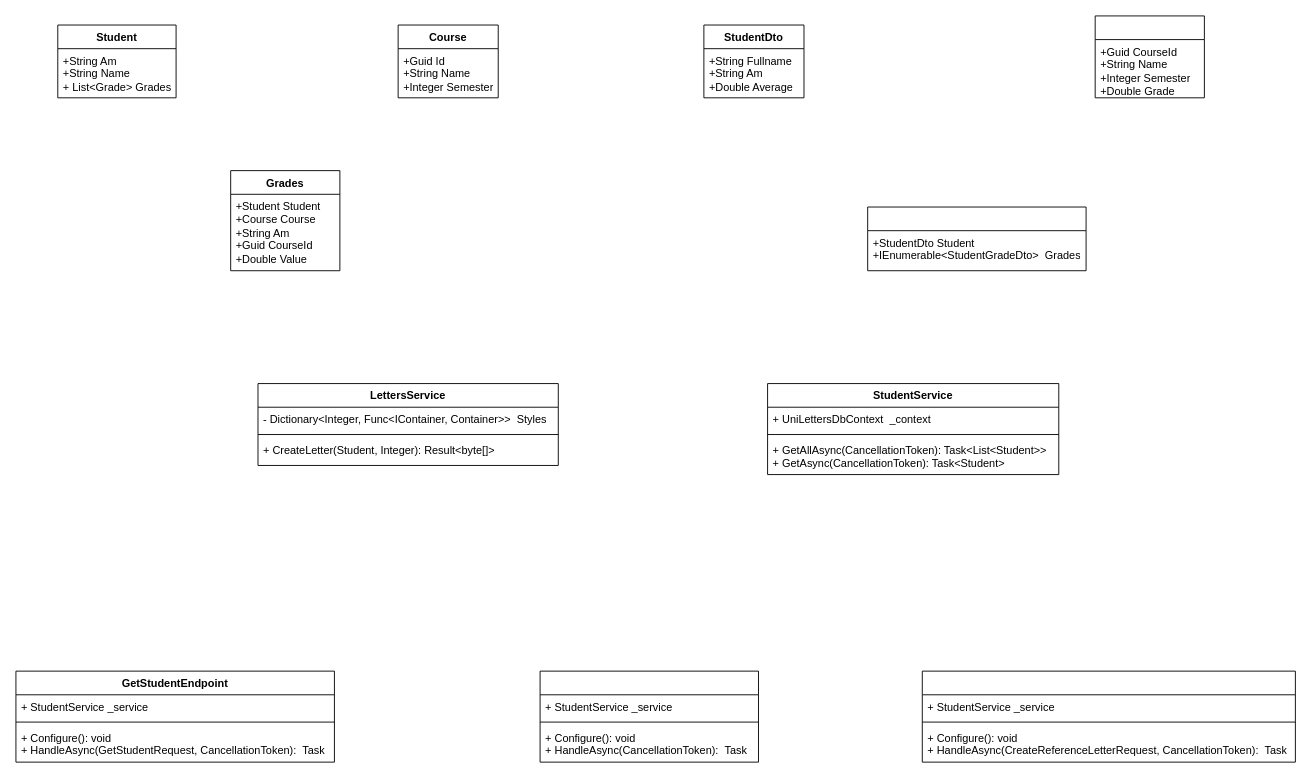
This 1311x781 diagram has some shape labels left out. The shapes that lost their labels are listed below. From the top down, each one's box as (x1, y1, x2, y2) in pixels, then its label:
(1094, 15, 1204, 98): StudentGradeDto
(867, 206, 1086, 271): StudentGradesDto
(539, 670, 758, 762): GetAllStudentsEndpoint
(921, 670, 1295, 762): CreateReferenceLetterEndpoint
